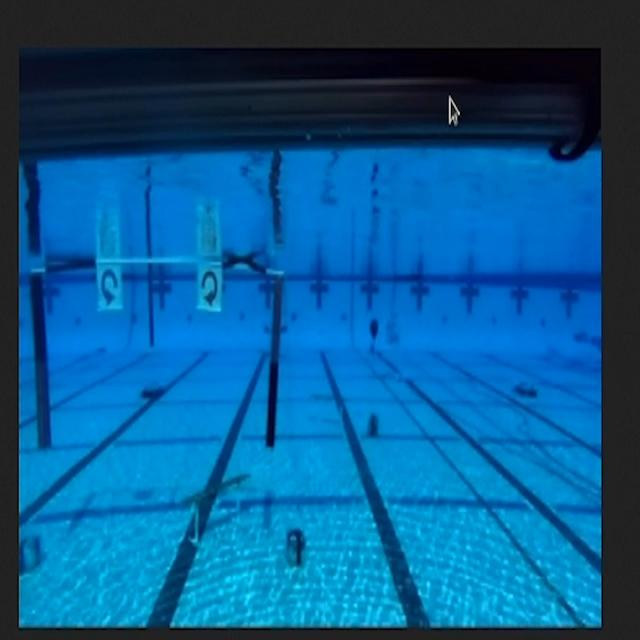Gate: (28, 249, 288, 457)
